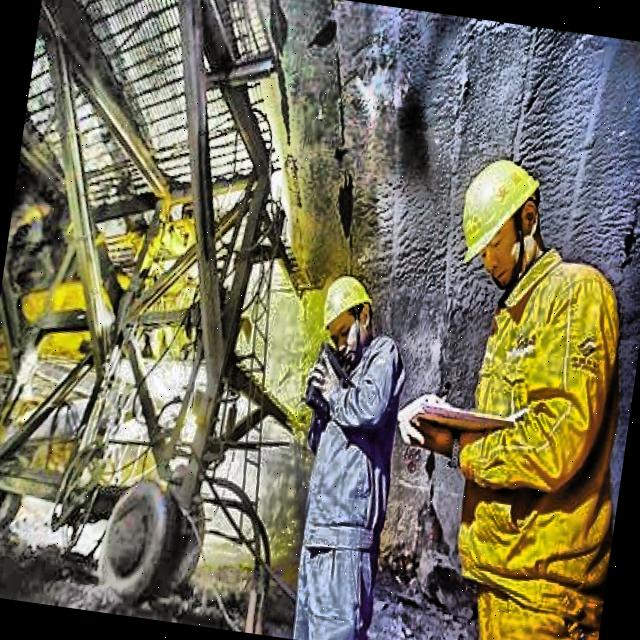helmet: (438, 144, 554, 291), (317, 268, 378, 350)
